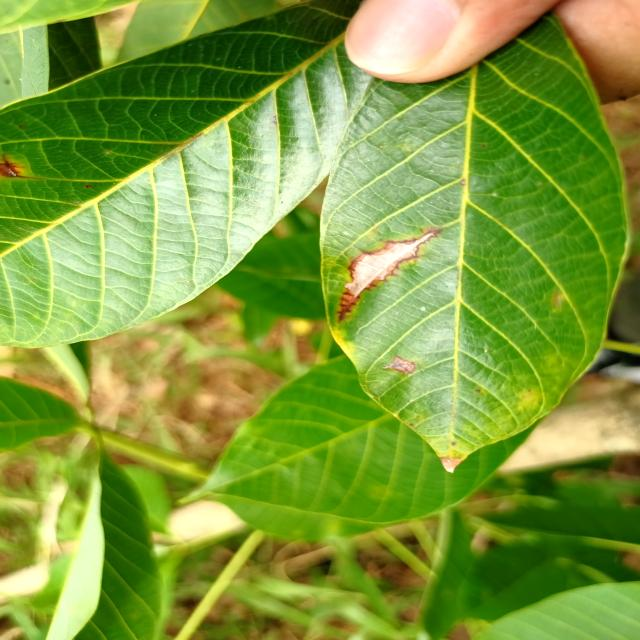Colletotrichum: (86, 185, 91, 188)
Corynespora: (336, 227, 446, 323), (0, 152, 46, 180)
Leaf-Blight: (384, 356, 416, 374), (440, 456, 462, 474)
